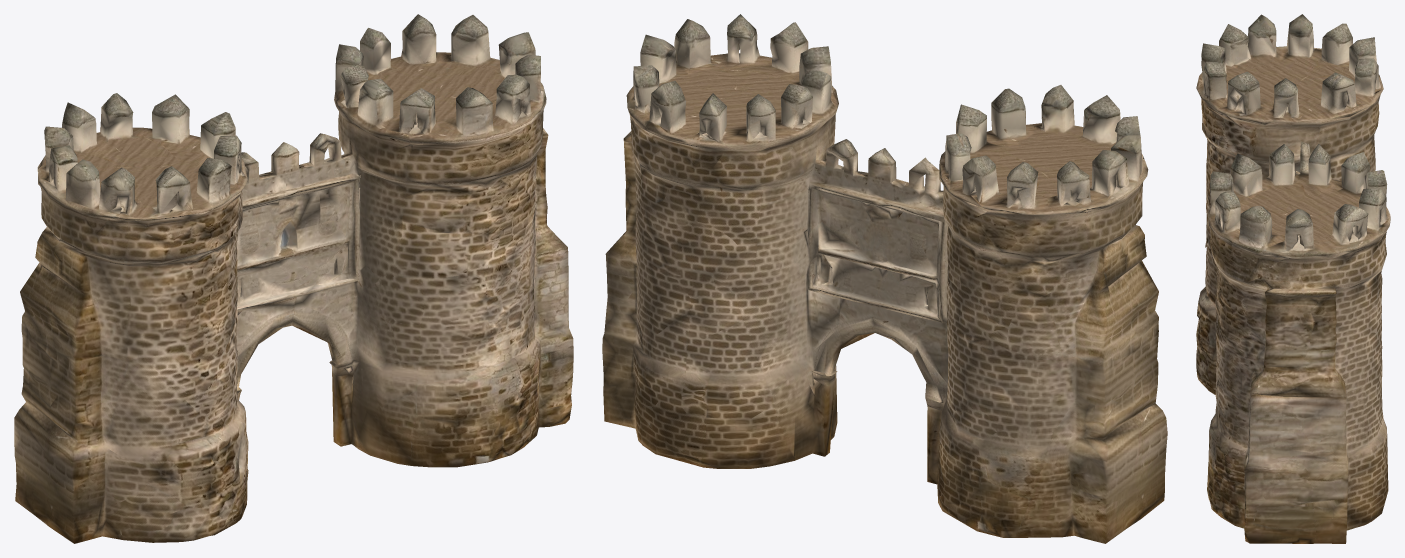
Rendered from stone_gate.glb.
3 renders of one model, left to right at view 1: azimuth 30°, elevation 25°; view 2: azimuth 150°, elevation 25°; view 3: azimuth 270°, elevation 25°, orthographic. The views are drawn at different scales.
Parts seen in each view (by area): view 1: stone_gate; view 2: stone_gate; view 3: stone_gate.
Part boxes in pixels (bbox=[...]): stone_gate: bbox=[14, 14, 573, 543]; stone_gate: bbox=[602, 14, 1167, 543]; stone_gate: bbox=[1196, 14, 1390, 543].
Bounding box in the file's own units: 1.9 × 1.33 × 0.7262.
1 material, 1 textured.
